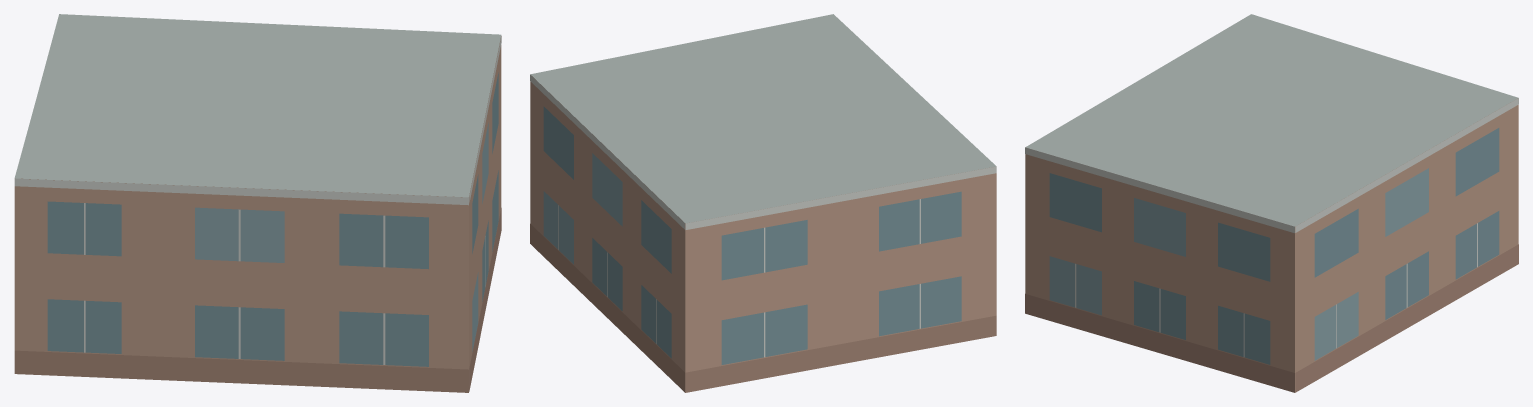
The model's file is survey-upis-32839717.glb.
The picture shows the model from 3 angles, left to right: view 1: azimuth 30°, elevation 25°; view 2: azimuth 150°, elevation 25°; view 3: azimuth 270°, elevation 25°; orthographic projection. The views are drawn at different scales.
Visible parts, largest first — view 1: survey-upis-32839717.tmp; view 2: survey-upis-32839717.tmp; view 3: survey-upis-32839717.tmp.
Part boxes in pixels (box(x1,y1,x2,y2)): survey-upis-32839717.tmp: box(14, 14, 501, 392); survey-upis-32839717.tmp: box(530, 14, 996, 392); survey-upis-32839717.tmp: box(1025, 14, 1518, 392).
Size of the model in its own units: 16.75 by 6.1 by 16.43.
